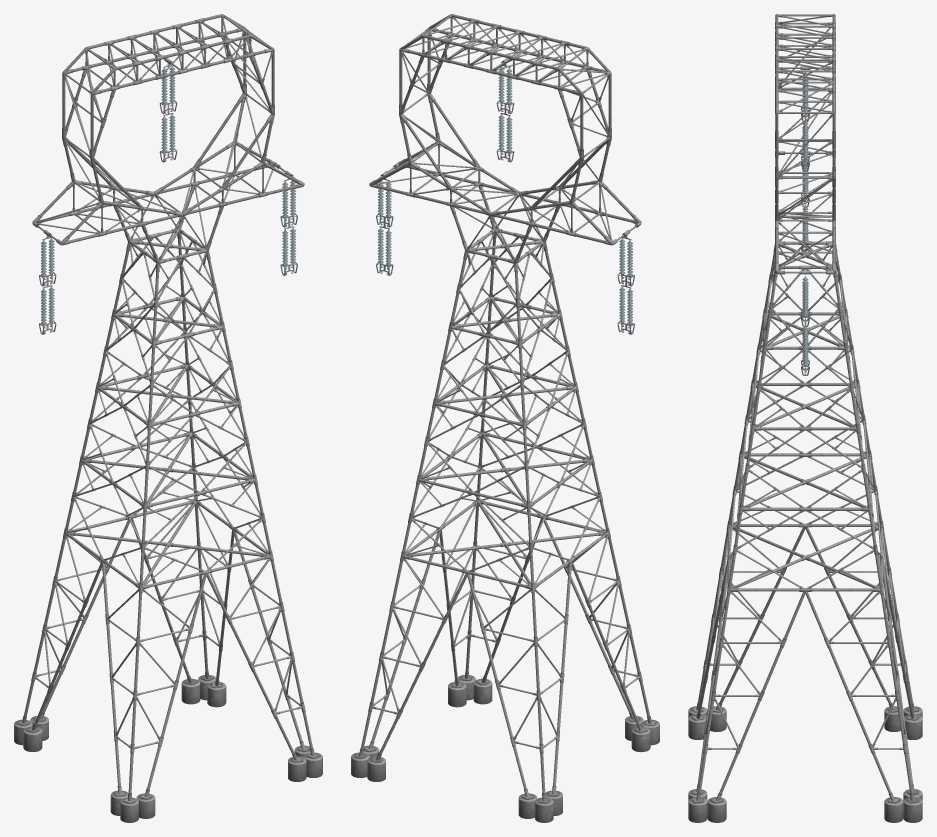
The model's file is power_transmission_tower_free.glb.
The picture shows the model from 3 angles, left to right: view 1: azimuth 30°, elevation 25°; view 2: azimuth 150°, elevation 25°; view 3: azimuth 270°, elevation 25°; orthographic projection.
Parts seen in each view (by area): view 1: RenderCrate_Power_Transmission_Tower_Single; view 2: RenderCrate_Power_Transmission_Tower_Single; view 3: RenderCrate_Power_Transmission_Tower_Single.
Boxes of the visible parts, x1=… form: RenderCrate_Power_Transmission_Tower_Single: x1=14, y1=14, x2=322, y2=822; RenderCrate_Power_Transmission_Tower_Single: x1=351, y1=14, x2=659, y2=822; RenderCrate_Power_Transmission_Tower_Single: x1=688, y1=14, x2=922, y2=822.
Bounding box in the file's own units: 3.91 × 10.51 × 3.07.
Materials: 1 (1 with a texture image).
